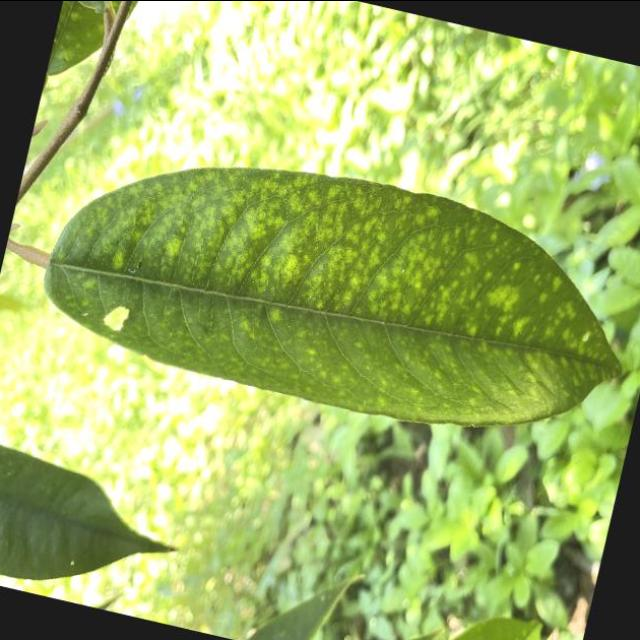Leaf Spot: (24, 100, 640, 477)
